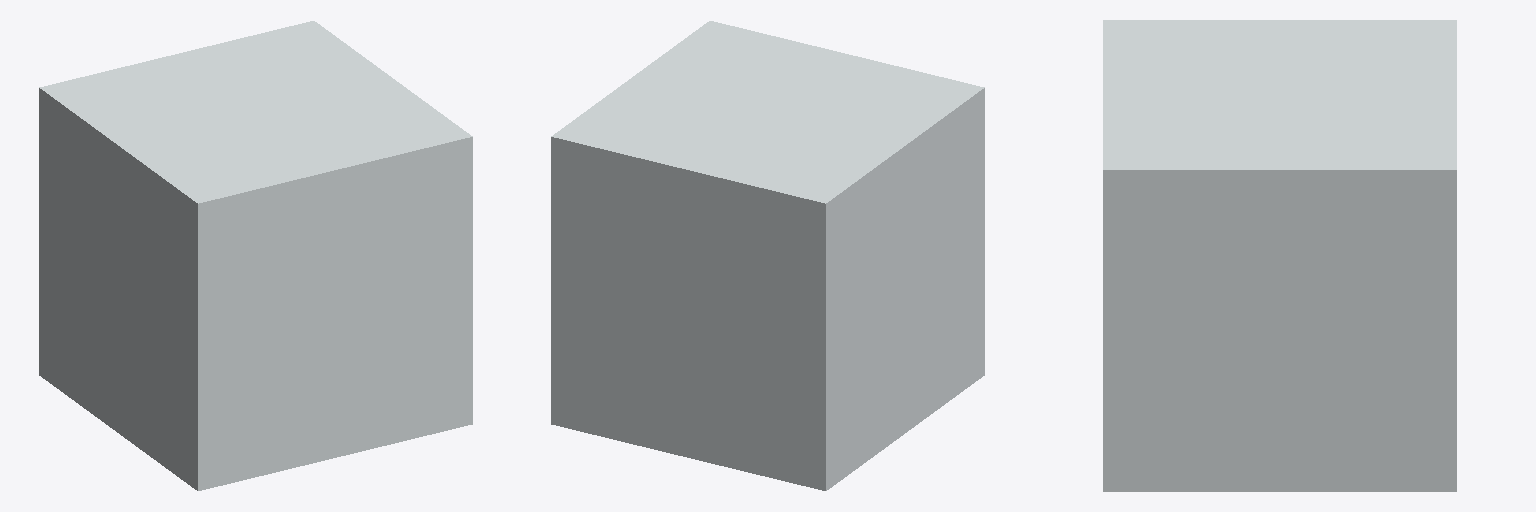
The robot description file, URDF, robot "Pieza1":
<robot
  name="Pieza1">
  <link
    name="Pieza1">
    <inertial>
      <origin
        xyz="-0.0018702 0.00072519 0.005"
        rpy="0 0 0" />
      <mass
        value="0.001" />
      <inertia
        ixx="1.66666666666667E-08"
        ixy="-5.84938012898165E-25"
        ixz="-1.57953998143193E-25"
        iyy="1.66666666666667E-08"
        iyz="5.51453741702019E-25"
        izz="1.66666666666667E-08" />
    </inertial>
    <visual>
      <origin
        xyz="0 0 0"
        rpy="1.5707963267949 0 0" />
      <geometry>
        <mesh
          filename="package://Pieza1/meshes/Pieza1.STL" />
      </geometry>
      <material
        name="">
        <color
          rgba="0.89804 0.92157 0.92941 1" />
      </material>
    </visual>
    <collision>
      <origin
        xyz="0 0 0"
        rpy="1.5707963267949 0 0" />
      <geometry>
        <mesh
          filename="package://Pieza1/meshes/Pieza1.STL" />
      </geometry>
    </collision>
  </link>
</robot>

--- Render facts (derived) ---
The picture shows the robot from 3 angles, left to right: view 1: azimuth 30°, elevation 25°; view 2: azimuth 150°, elevation 25°; view 3: azimuth 270°, elevation 25°; orthographic projection.
Robot: Pieza1 — 1 links, 0 joints (none); root link Pieza1; default pose: every joint at zero.
Visible links, largest first — view 1: Pieza1; view 2: Pieza1; view 3: Pieza1.
Boxes of the visible links, box(x1,y1,x2,y2) form: Pieza1: box(39, 21, 472, 490); Pieza1: box(551, 21, 984, 490); Pieza1: box(1103, 20, 1456, 491).
Size in the robot's own frame: 0.01 by 0.01 by 0.01 metres.
Meshes: 1 distinct files referenced, 1 mesh visuals loaded (1 binary STL).